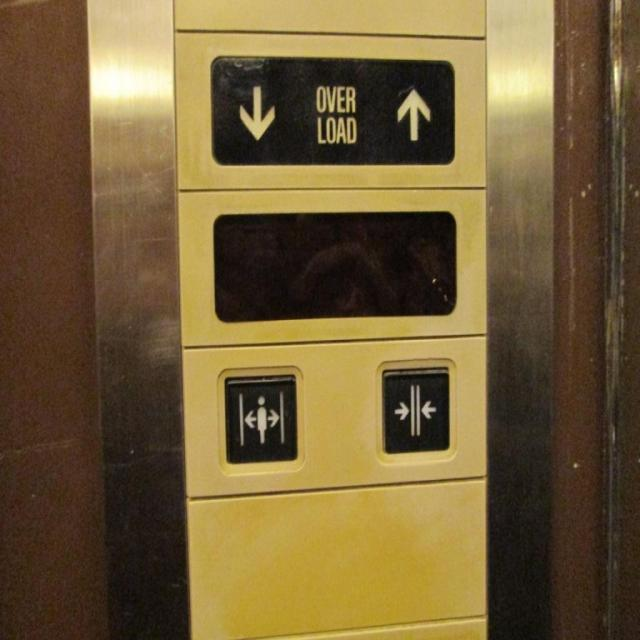close: (374, 358, 458, 464)
led: (210, 54, 455, 164), (213, 212, 456, 322)
open: (218, 365, 306, 472)
